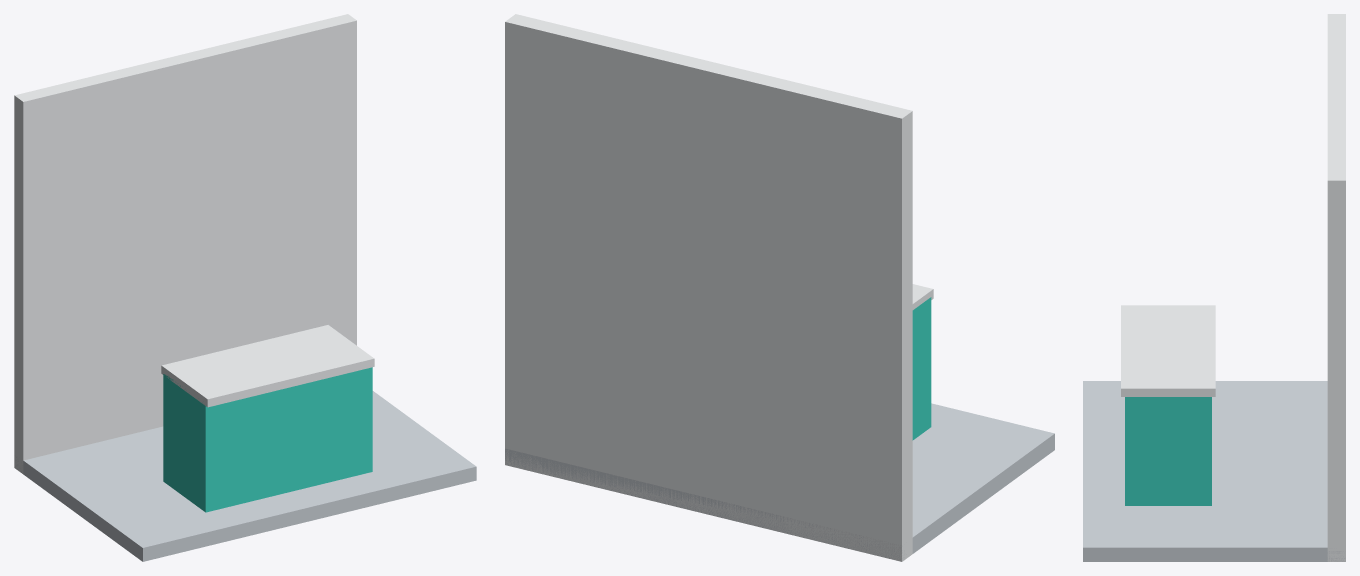
3 renders of one model, left to right at view 1: azimuth 30°, elevation 25°; view 2: azimuth 150°, elevation 25°; view 3: azimuth 270°, elevation 25°, orthographic. The views are drawn at different scales.
Visible parts, largest first — view 1: Exhibition Booth Concept; view 2: Exhibition Booth Concept; view 3: Exhibition Booth Concept.
Part boxes in pixels (x1,y1,x2,y2): Exhibition Booth Concept: (14, 14, 476, 561); Exhibition Booth Concept: (505, 14, 1054, 561); Exhibition Booth Concept: (1083, 14, 1345, 561).
Bounding box in the file's own units: 3 × 3.2 × 2.
